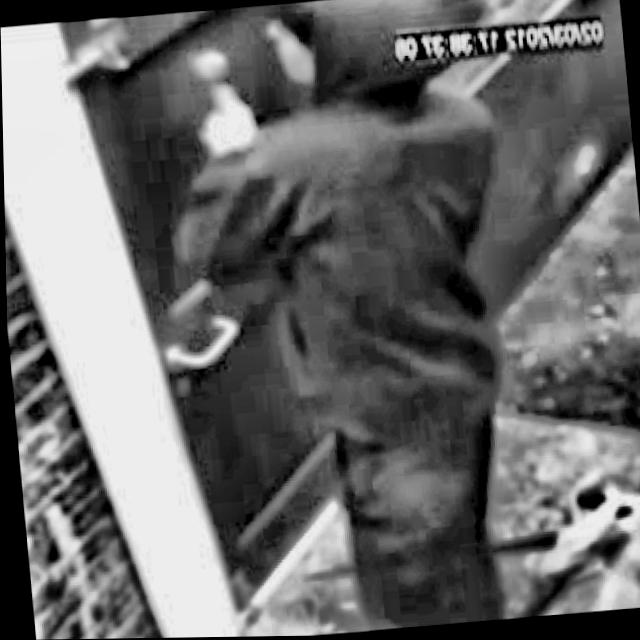burglary: (122, 0, 538, 639)
